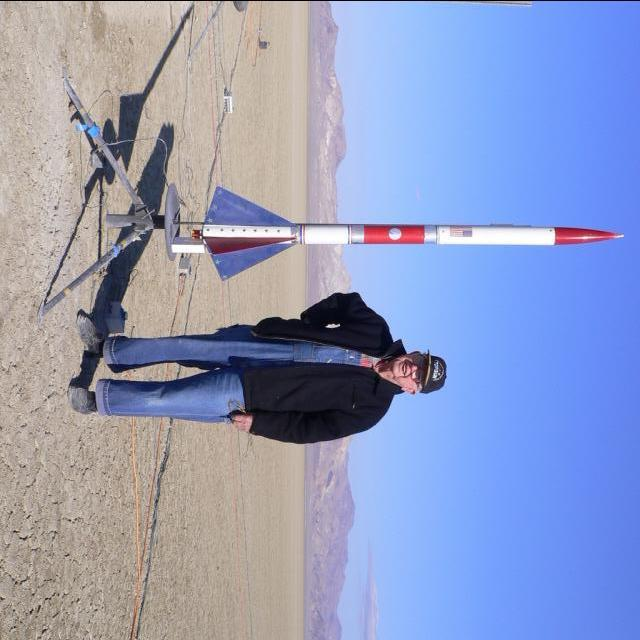missile: (192, 184, 623, 278), (190, 218, 635, 254)
